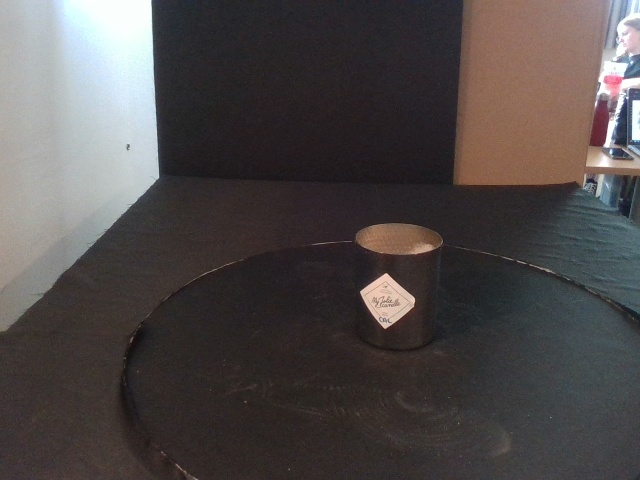candle: (352, 222, 445, 350)
